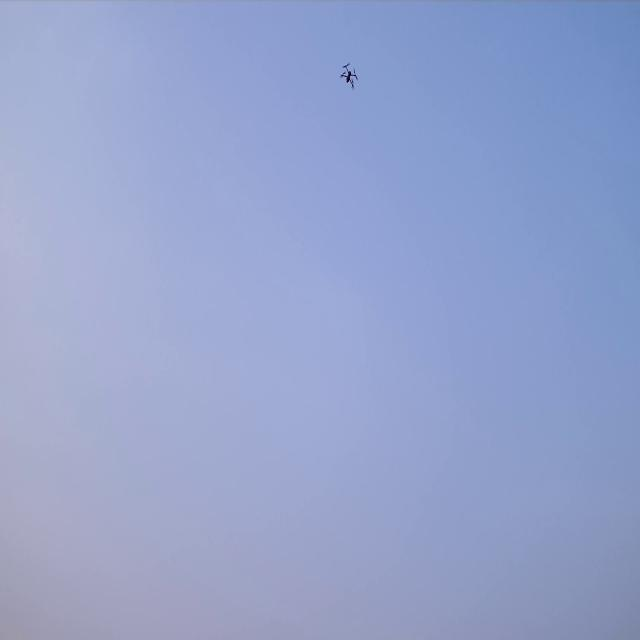UAV: (342, 64, 356, 87)
